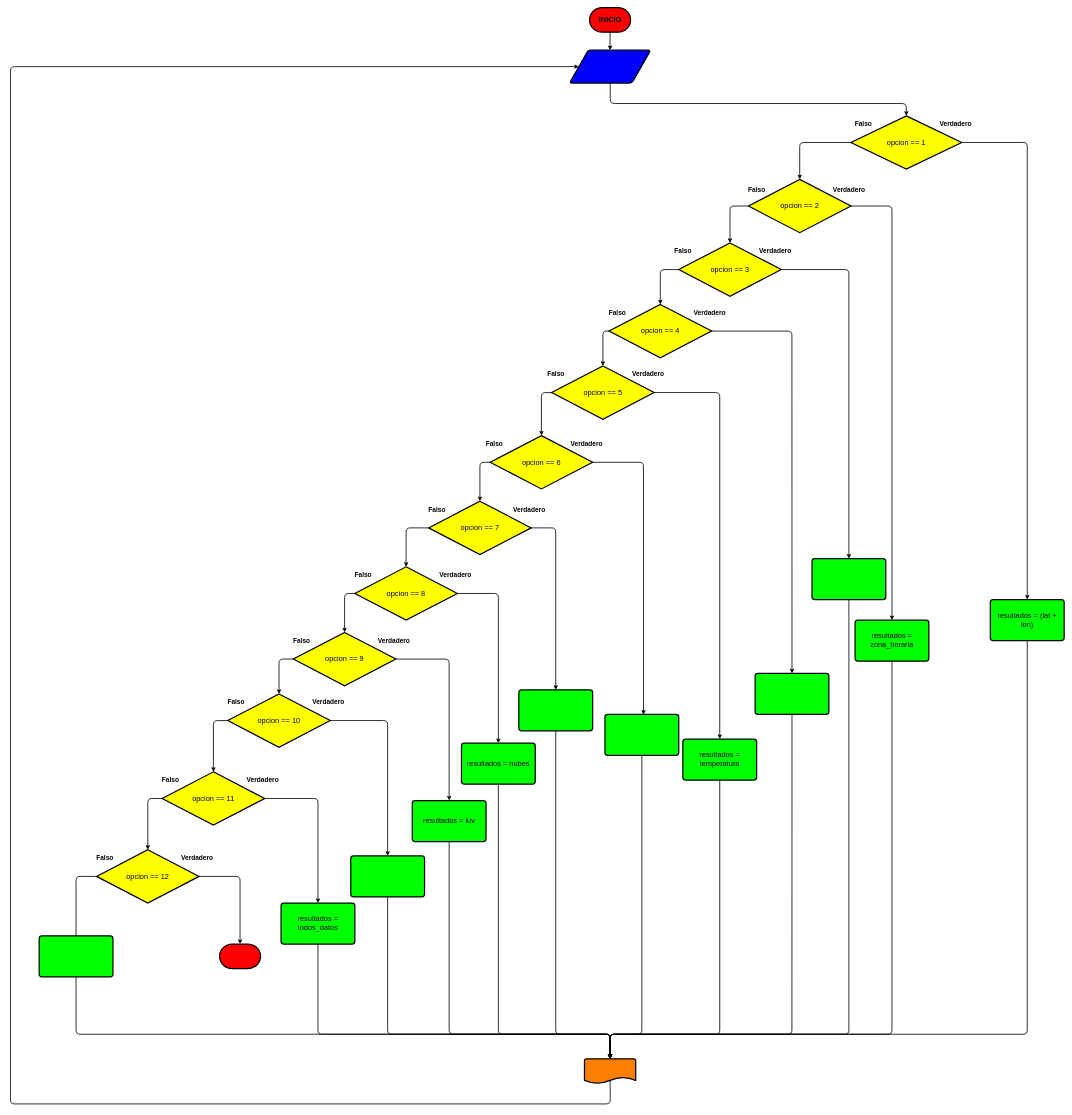
This 1072x1115 diagram has some shape labels left out. Here are the shapes that lost their labels. From the top down, the centre of each, then its label:
the point at 610,66: opcion ciudad pais
the point at 848,579: resultados = velocidad_viento
the point at 555,710: resultados = lluvia
the point at 791,694: resultados = humedad
the point at 641,735: resultados = clima
the point at 387,876: resultados = calidad_aire
the point at 75,956: resultados = "Opción desconocida"
the point at 240,956: FIN
the point at 610,1071: resultados
